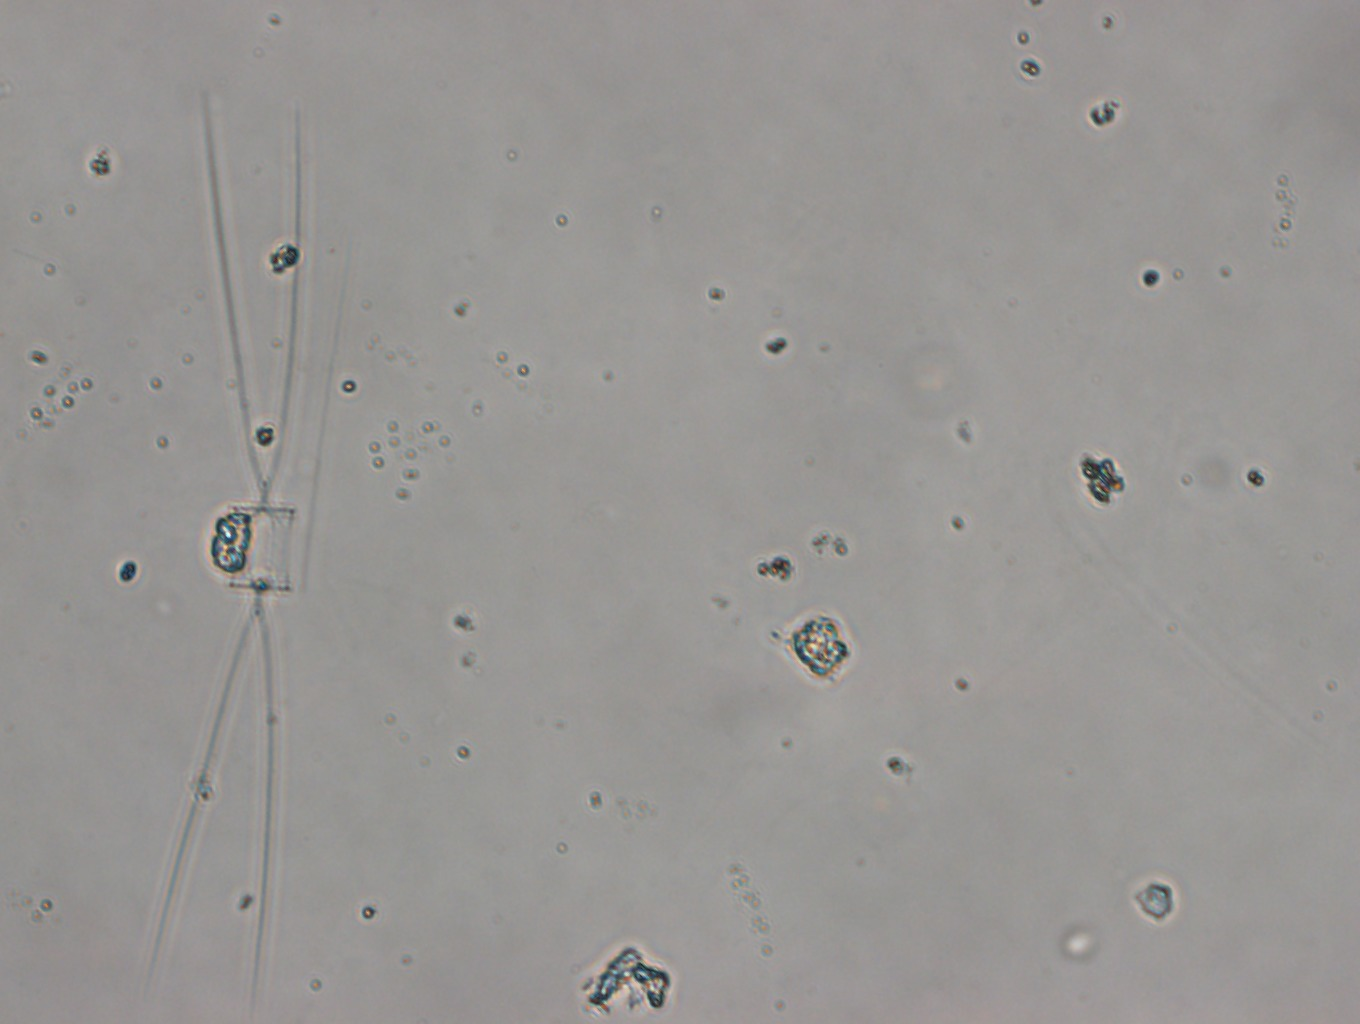chaetoceros: (146, 87, 307, 1001)
